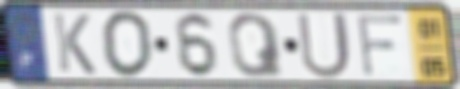6: (172, 10, 222, 80)
F: (354, 13, 406, 80)
K: (50, 11, 99, 77)
O: (98, 9, 156, 80)
Q: (225, 10, 287, 80)
U: (294, 10, 355, 82)
